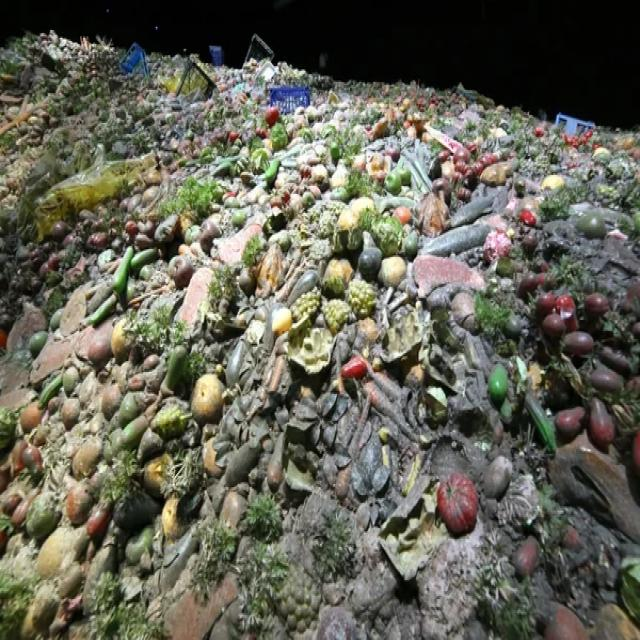Organic: (3, 36, 640, 640), (326, 241, 398, 350), (196, 364, 238, 426)
